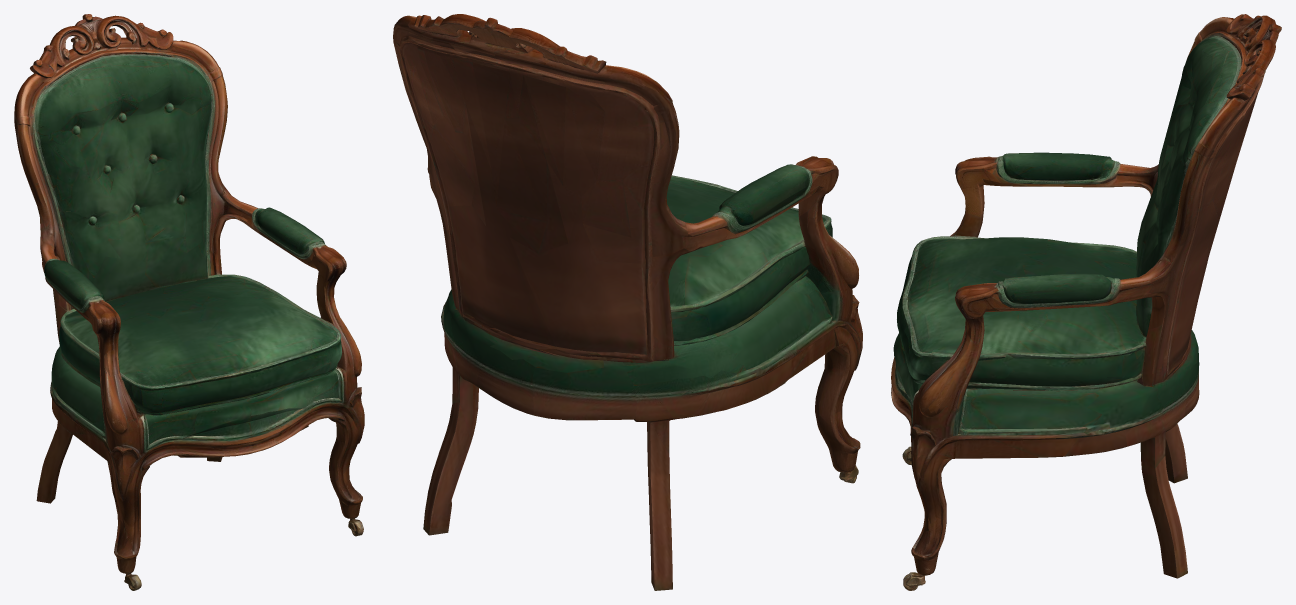
The model's file is armchair.glb.
3 renders of one model, left to right at view 1: azimuth 30°, elevation 25°; view 2: azimuth 150°, elevation 25°; view 3: azimuth 270°, elevation 25°, orthographic. The views are drawn at different scales.
Size of the model in its own units: 1.15 by 1.9 by 1.34.
1 material, 1 textured.
